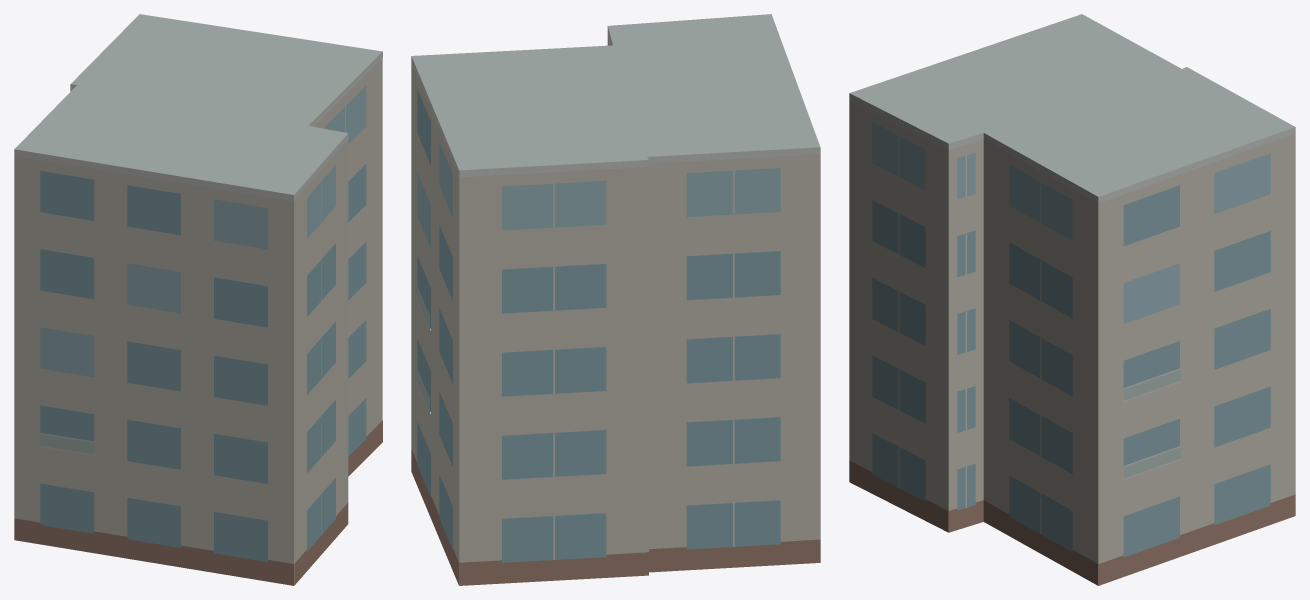
File: survey-upis-32852344.glb
3 renders of one model, left to right at view 1: azimuth 30°, elevation 25°; view 2: azimuth 150°, elevation 25°; view 3: azimuth 270°, elevation 25°, orthographic. The views are drawn at different scales.
Visible parts, largest first — view 1: survey-upis-32852344.tmp; view 2: survey-upis-32852344.tmp; view 3: survey-upis-32852344.tmp.
Part boxes in pixels (left/top/right/bottom): survey-upis-32852344.tmp: left=14, top=14, right=382, bottom=585; survey-upis-32852344.tmp: left=411, top=14, right=820, bottom=585; survey-upis-32852344.tmp: left=849, top=14, right=1295, bottom=585.
Size of the model in its own units: 14.68 by 14.55 by 15.13.
